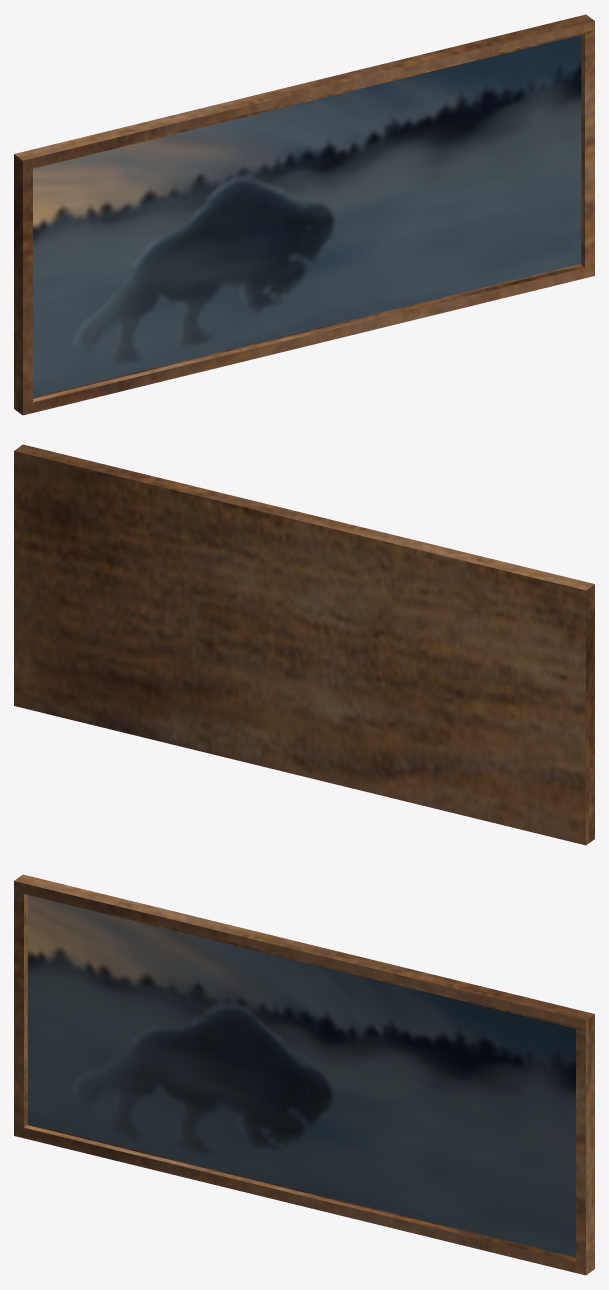
Rendered from obraz1.glb.
The picture shows the model from 3 angles, top to bottom: view 1: azimuth 30°, elevation 25°; view 2: azimuth 150°, elevation 25°; view 3: azimuth 330°, elevation 25°; orthographic projection.
Parts seen in each view (by area): view 1: Cube.085; view 2: Cube.085; view 3: Cube.085.
Boxes of the visible parts, x1,y1,x2,y2 form: Cube.085: (14, 14, 594, 415); Cube.085: (14, 444, 594, 845); Cube.085: (14, 874, 594, 1275).
Bounding box in the file's own units: 6.08 × 2.59 × 0.1636.
1 material, 1 textured.
